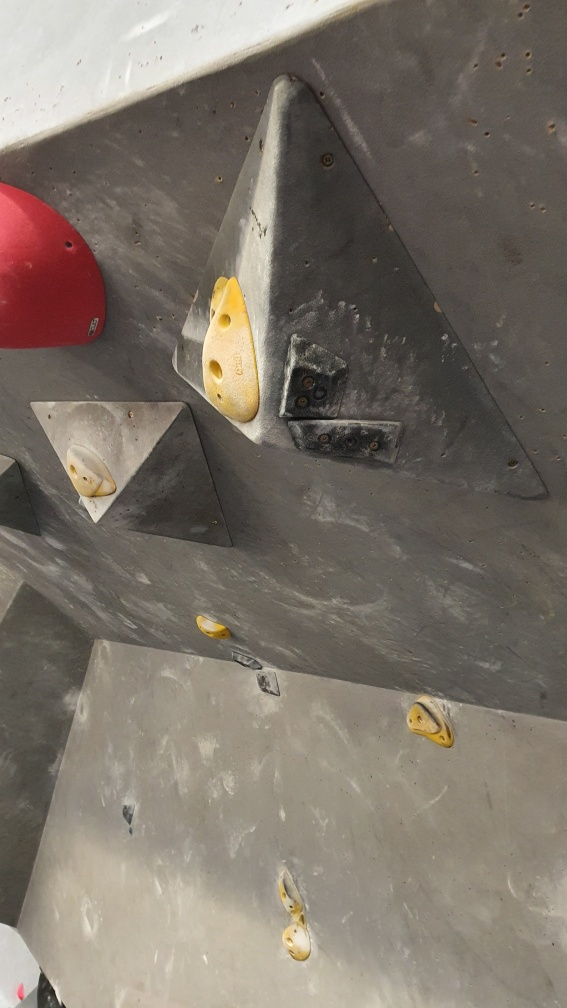Crimp: (285, 415, 411, 473)
